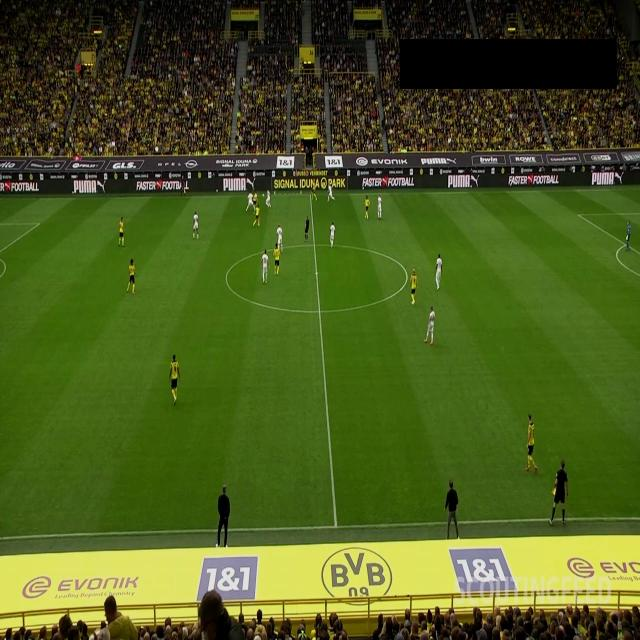ball: (262, 193, 264, 198)
goalkeeper: (624, 220, 632, 252)
player: (525, 413, 538, 475), (169, 354, 181, 406), (424, 305, 436, 345), (126, 258, 136, 294), (260, 249, 269, 285), (410, 268, 418, 306), (272, 243, 280, 275), (275, 224, 283, 254), (192, 210, 200, 240), (436, 253, 442, 291), (118, 216, 125, 246), (252, 201, 260, 227), (246, 192, 256, 212), (310, 179, 318, 201), (330, 220, 336, 248), (326, 182, 334, 202), (252, 190, 259, 212), (364, 195, 370, 219), (265, 190, 271, 208), (378, 194, 382, 220)
referee: (548, 457, 568, 527), (304, 215, 310, 242), (180, 173, 186, 196)
